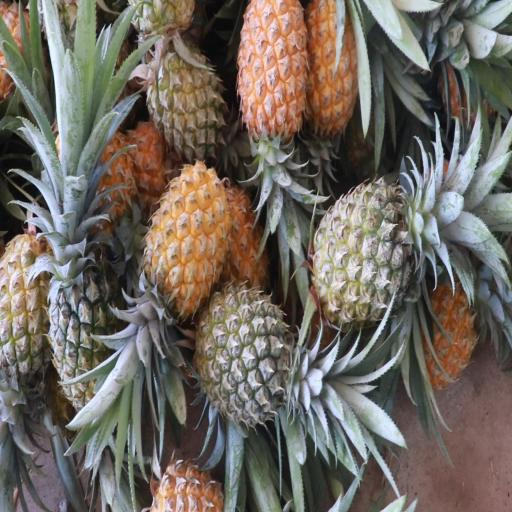------------------------------: (0, 233, 51, 467)
Pineapple - v8 v1: (126, 163, 231, 350), (235, 1, 307, 214), (306, 1, 362, 164)
